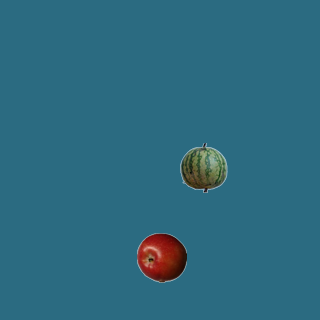Apple Braeburn: (136, 232, 186, 282)
Watermelon: (178, 142, 228, 192)
